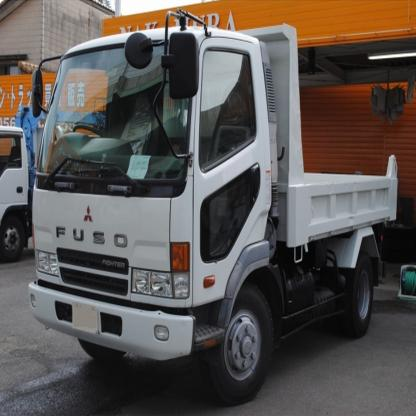truck: (29, 10, 400, 394)
